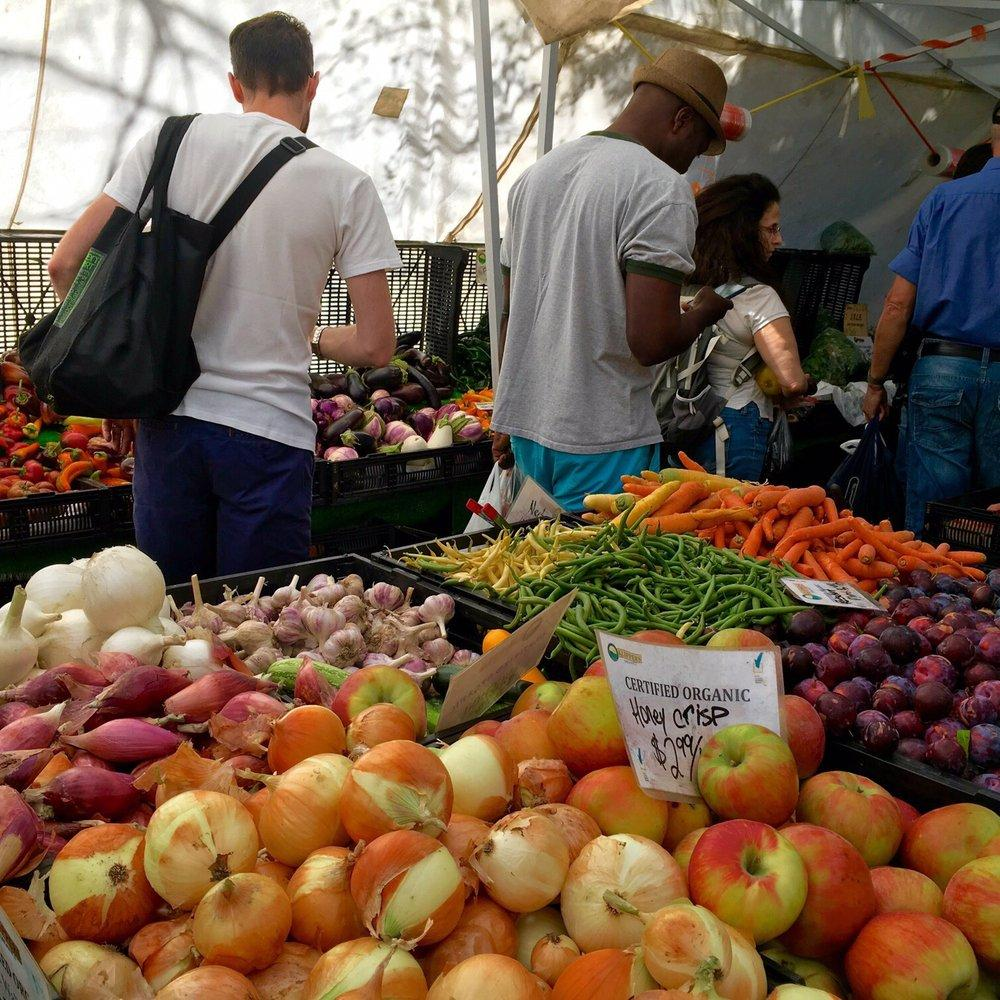carrot: (620, 457, 979, 568)
eggplant: (330, 363, 374, 448), (369, 362, 445, 406)
garlic: (185, 569, 478, 661)
onion: (60, 716, 733, 1000), (0, 549, 222, 820)
red apple: (699, 736, 993, 989), (515, 634, 811, 791)
